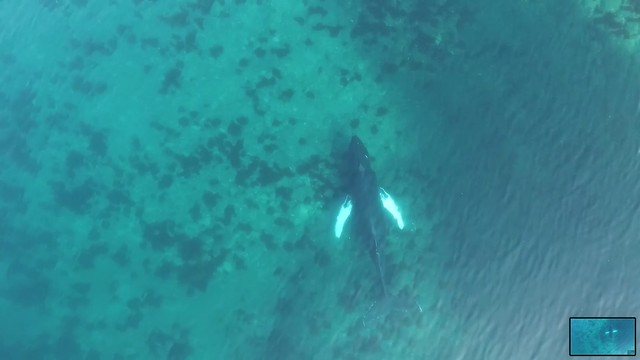whale: (326, 129, 431, 333)
